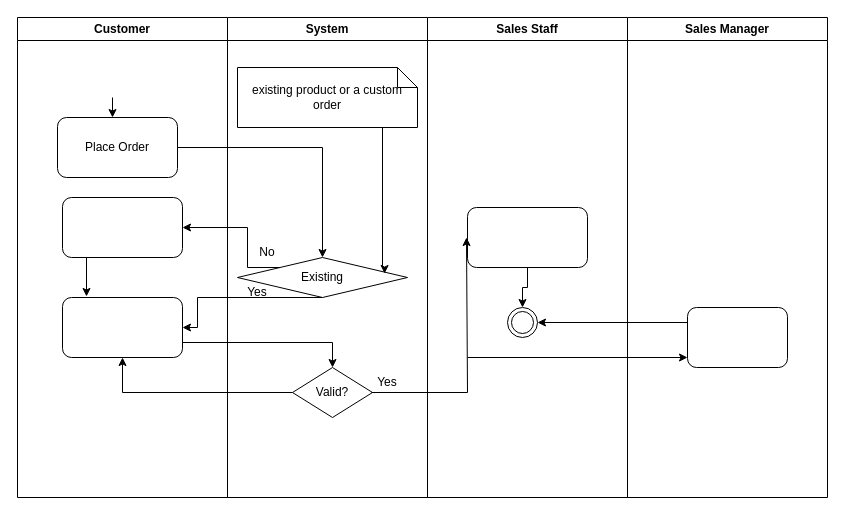
The diagram is 845 pixels wide and 515 high, and some of its shapes have lost their labels. Here are the shapes that lost their labels. From the top down, the centre of each, then its label:
At point 122,227: "Provide details".
At point 527,237: "Provide Product".
At point 122,327: "Pay".
At point 737,337: "Create Blueprint".
